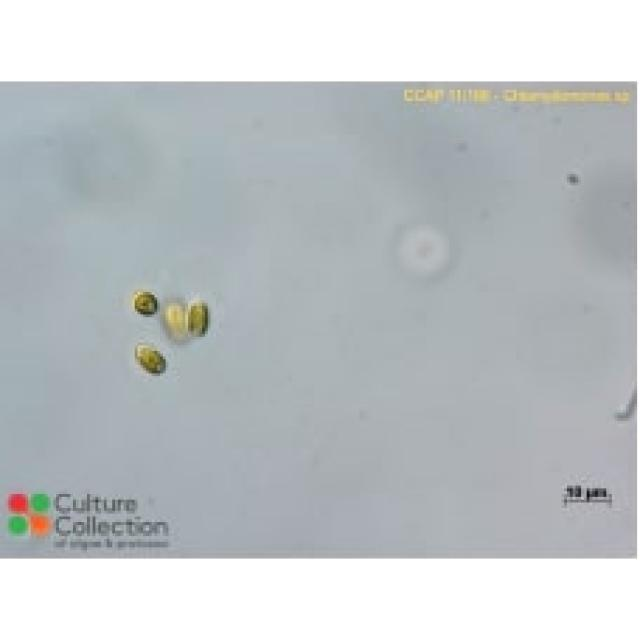Green Algae: (160, 303, 191, 345), (135, 340, 168, 376), (129, 284, 163, 317), (185, 297, 211, 337)
